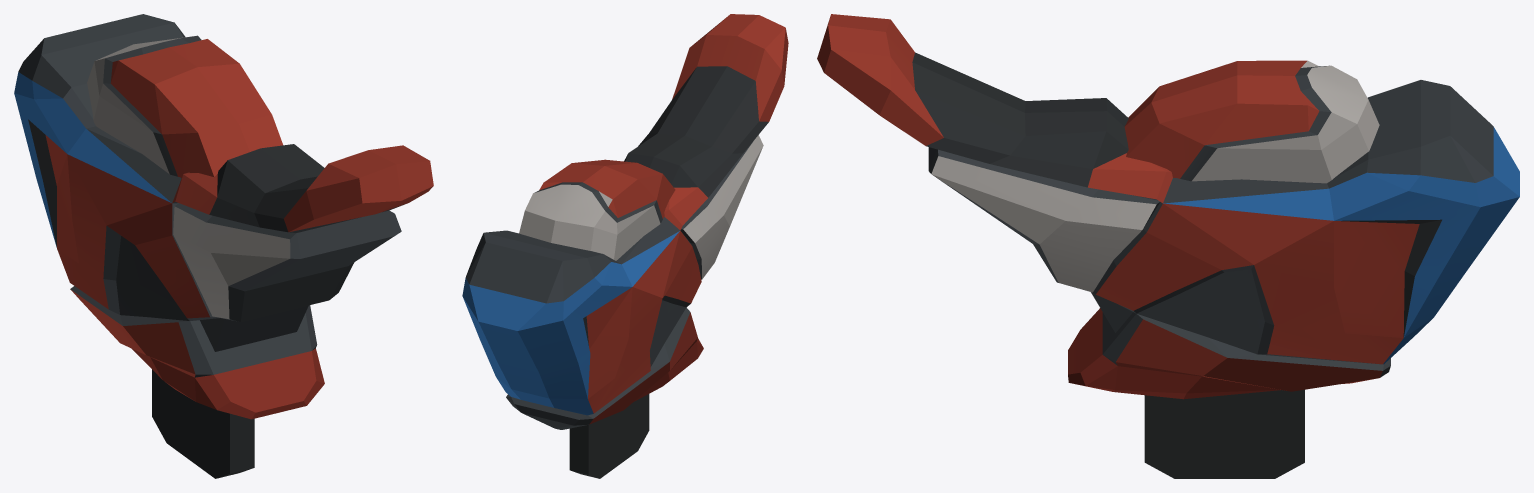
Rendered from SM_Prop_Arcade_Bike_Racing_01_Bike.obj.
3 views of the same model, side by side, from view 1: azimuth 30°, elevation 25°; view 2: azimuth 150°, elevation 25°; view 3: azimuth 270°, elevation 25° (orthographic). The views are drawn at different scales.
Visible parts, largest first — view 1: SM_Prop_Arcade_Bike_Racing_01_Bike_0; view 2: SM_Prop_Arcade_Bike_Racing_01_Bike_0; view 3: SM_Prop_Arcade_Bike_Racing_01_Bike_0.
Boxes of the visible parts, box(x1,y1,x2,y2) form: SM_Prop_Arcade_Bike_Racing_01_Bike_0: box(14, 14, 433, 478); SM_Prop_Arcade_Bike_Racing_01_Bike_0: box(462, 14, 788, 478); SM_Prop_Arcade_Bike_Racing_01_Bike_0: box(817, 14, 1519, 478).
Size of the model in its own units: 0.4403 by 1.1 by 1.57.
Materials: 1 (1 with a texture image).
